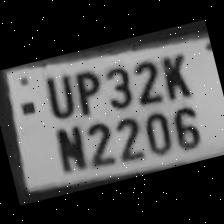0: (136, 105, 174, 158)
2: (76, 116, 118, 171), (105, 110, 146, 165), (126, 54, 164, 106)
3: (96, 58, 136, 112)
6: (164, 100, 206, 154)
K: (152, 46, 196, 104)
N: (46, 119, 88, 174)
P: (65, 62, 107, 117)
U: (34, 66, 78, 122)
